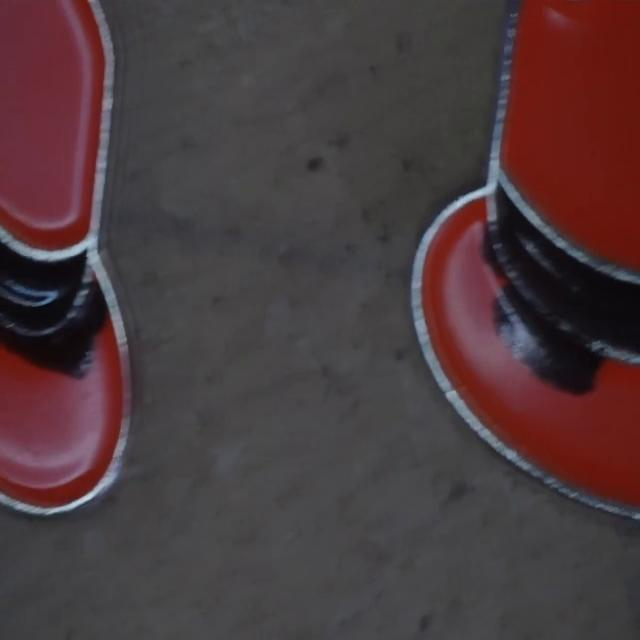Hatband: (489, 187, 640, 364), (0, 242, 92, 339)
Paint_Leak: (0, 269, 110, 378), (495, 282, 602, 393), (485, 224, 504, 270)
